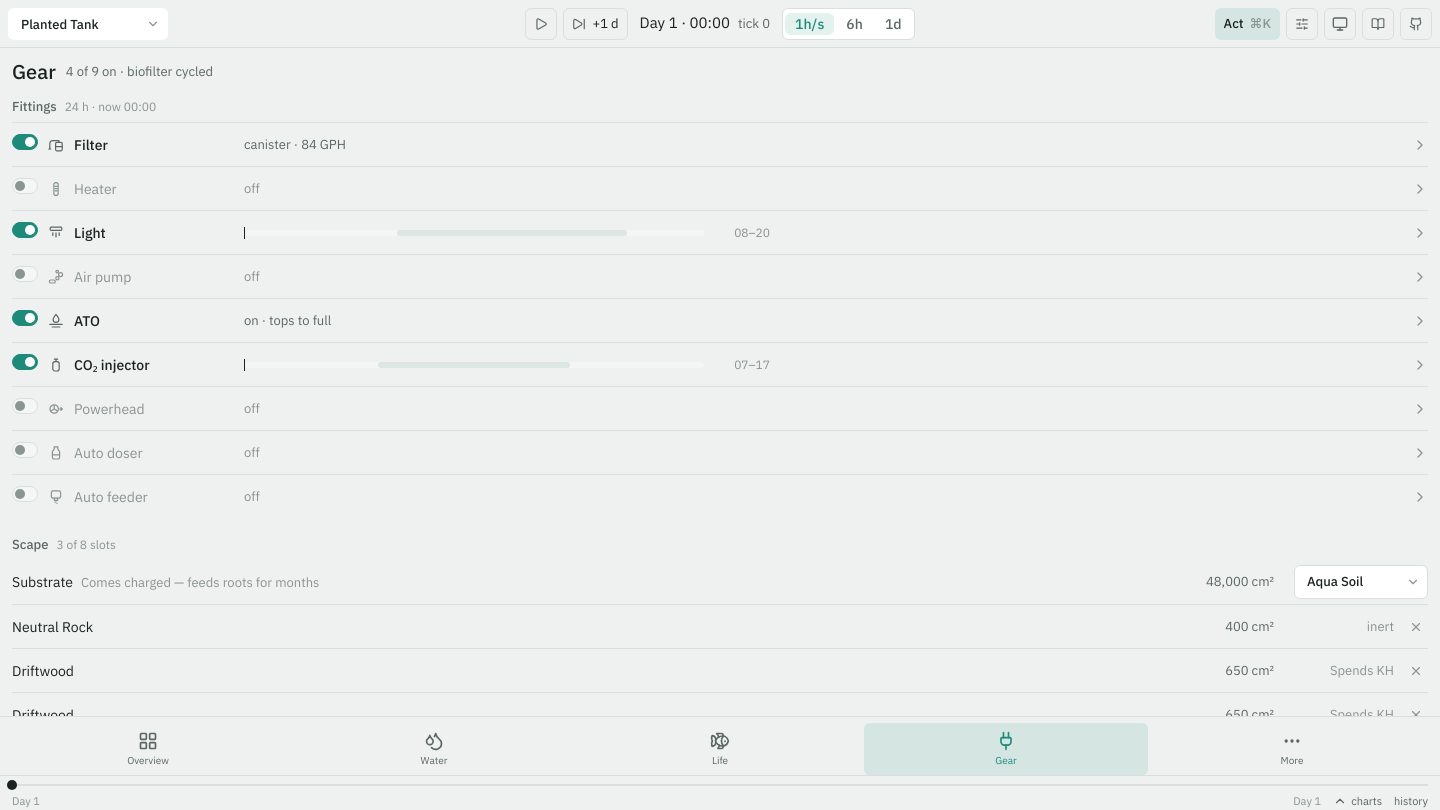
Test case: App at 700 px › opens the Gear inspector as a sheet over the rack
Click the link named "Heater —" at (720, 188), box [12,167,1428,210]
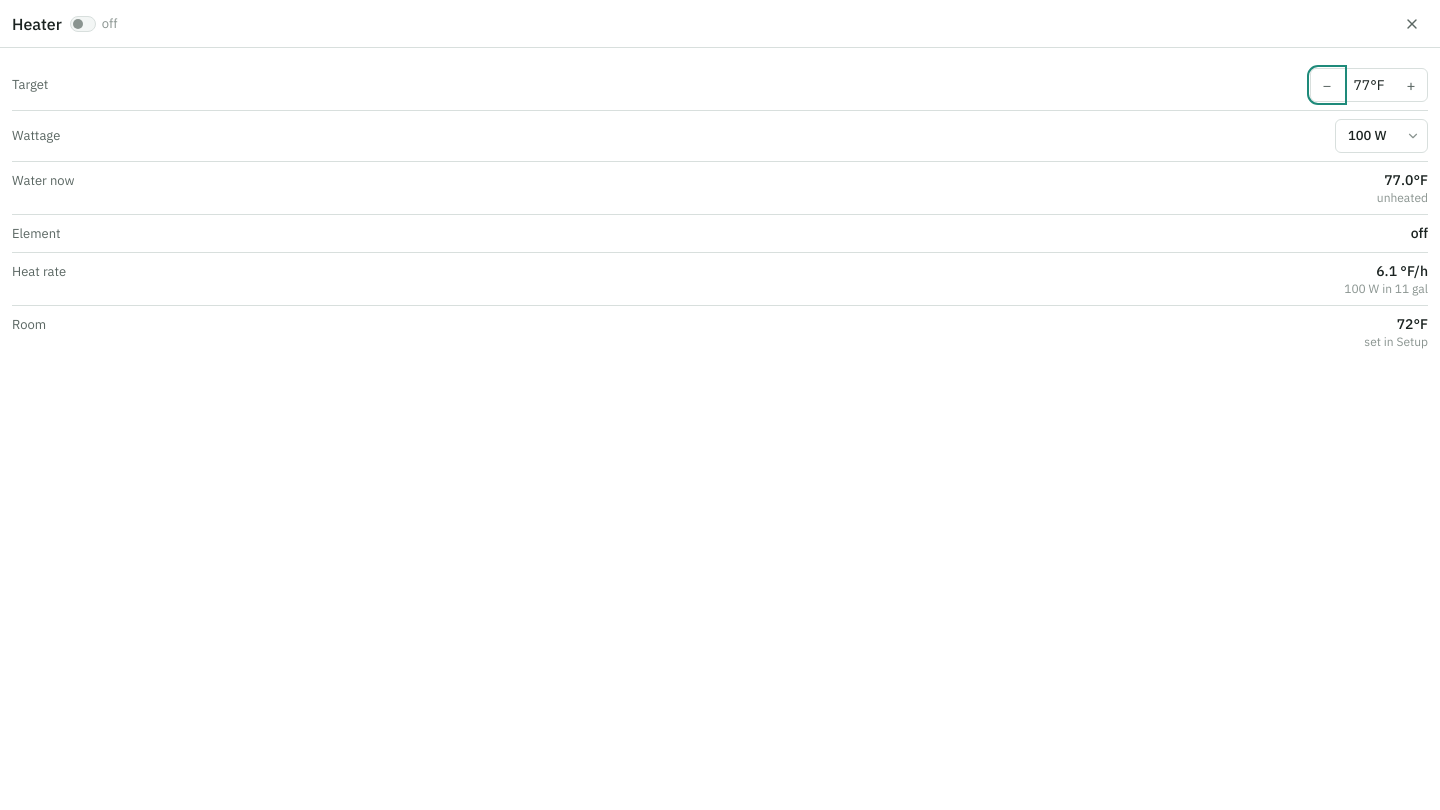
Check: the dialog "Heater" is shown
